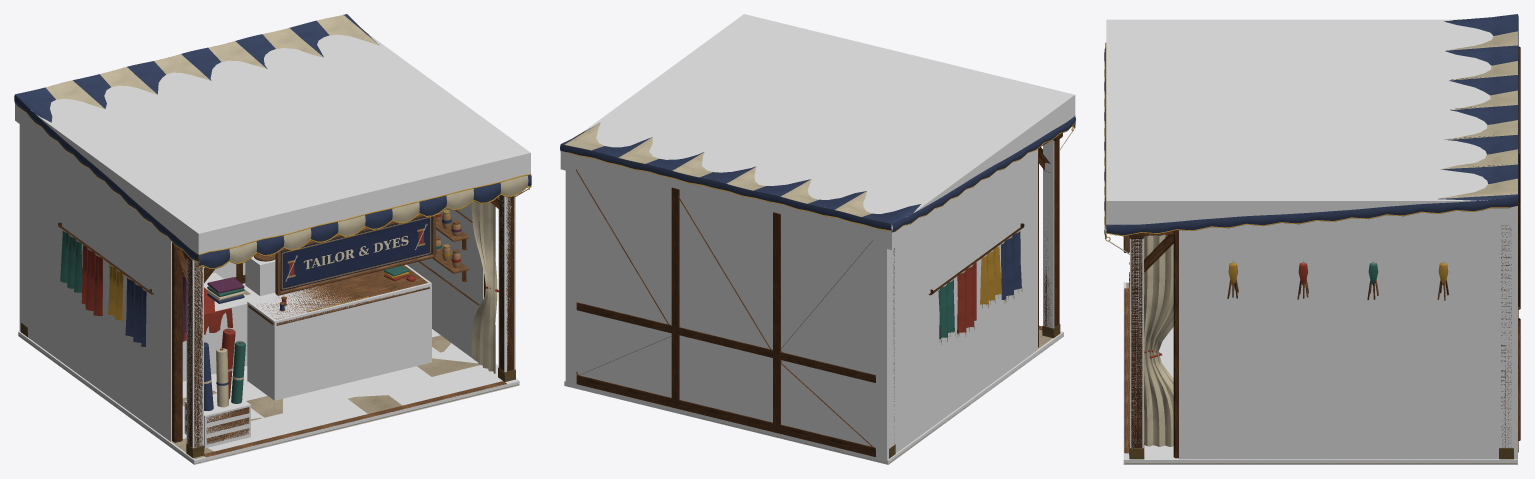
The model's file is tailor_dyes_stall.gltf.
The picture shows the model from 3 angles, left to right: view 1: azimuth 30°, elevation 25°; view 2: azimuth 150°, elevation 25°; view 3: azimuth 270°, elevation 25°; orthographic projection. The views are drawn at different scales.
Visible parts, largest first — view 1: tailor_dyes_stall_col, tailor_dyes_stall_LOD0; view 2: tailor_dyes_stall_col, tailor_dyes_stall_LOD0; view 3: tailor_dyes_stall_col, tailor_dyes_stall_LOD0.
Boxes of the visible parts, bbox=[...] form: tailor_dyes_stall_col: bbox=[15, 32, 530, 464]; tailor_dyes_stall_LOD0: bbox=[14, 14, 531, 463]; tailor_dyes_stall_col: bbox=[560, 14, 1075, 464]; tailor_dyes_stall_LOD0: bbox=[560, 115, 1075, 463]; tailor_dyes_stall_col: bbox=[1106, 19, 1517, 464]; tailor_dyes_stall_LOD0: bbox=[1104, 14, 1520, 463].
Size of what is drawn, in the model's own units: 4.95 by 3.42 by 4.76.
Materials: 18 (18 with a texture image).
